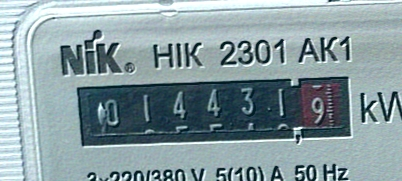0: (104, 92, 124, 125)
1: (140, 88, 158, 121), (277, 83, 290, 115)
3: (240, 83, 259, 115)
4: (171, 85, 192, 118), (206, 82, 224, 116)
9: (311, 91, 328, 122)
screen: (71, 65, 366, 152)
